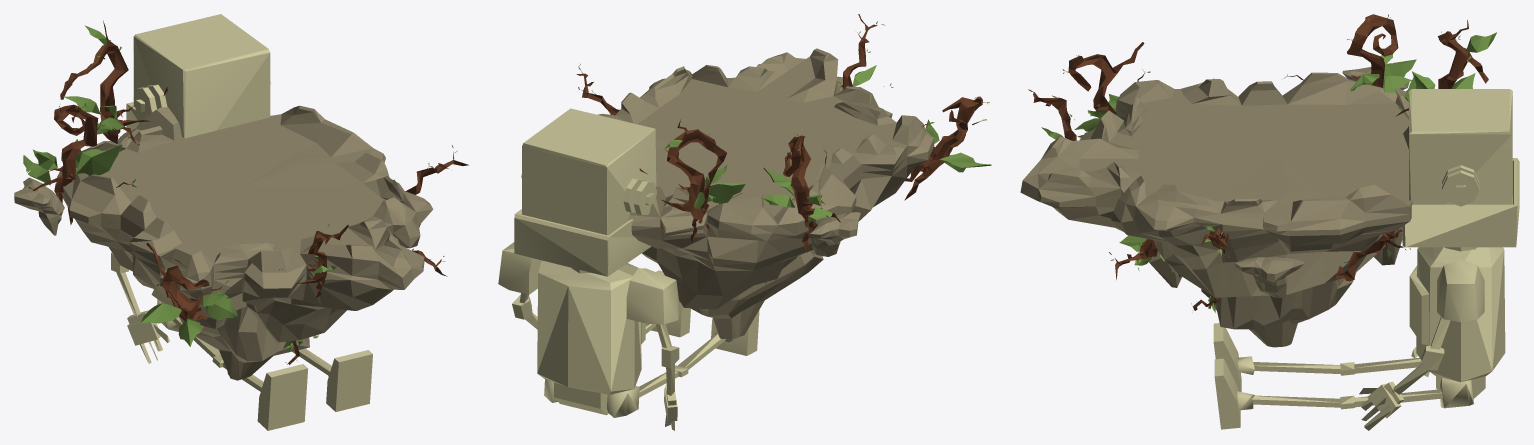
The model's file is Level1Floor.fbx.
3 views of the same model, side by side, from view 1: azimuth 30°, elevation 25°; view 2: azimuth 150°, elevation 25°; view 3: azimuth 270°, elevation 25° (orthographic). The views are drawn at different scales.
Visible parts, largest first — view 1: polySurface58, polySurface57, polySurface316, polySurface313, polySurface59; view 2: polySurface58, polySurface57, polySurface316, polySurface313, polySurface59; view 3: polySurface58, polySurface57, polySurface316, polySurface313, polySurface60.
Part boxes in pixels (x1=…): polySurface58: x1=57, y1=105, x2=433, y2=380; polySurface57: x1=111, y1=14, x2=372, y2=430; polySurface316: x1=33, y1=20, x2=468, y2=364; polySurface313: x1=23, y1=25, x2=457, y2=364; polySurface59: x1=14, y1=177, x2=64, y2=235; polySurface58: x1=597, y1=48, x2=934, y2=339; polySurface57: x1=498, y1=108, x2=759, y2=430; polySurface316: x1=576, y1=14, x2=985, y2=252; polySurface313: x1=578, y1=21, x2=991, y2=225; polySurface59: x1=809, y1=212, x2=860, y2=256; polySurface58: x1=1020, y1=72, x2=1412, y2=347; polySurface57: x1=1213, y1=89, x2=1519, y2=430; polySurface316: x1=1033, y1=14, x2=1488, y2=310; polySurface313: x1=1028, y1=14, x2=1496, y2=312; polySurface60: x1=1235, y1=257, x2=1303, y2=297.
Size of the model in its own units: 13.37 by 11.47 by 15.09.
5 materials, 5 textured.
